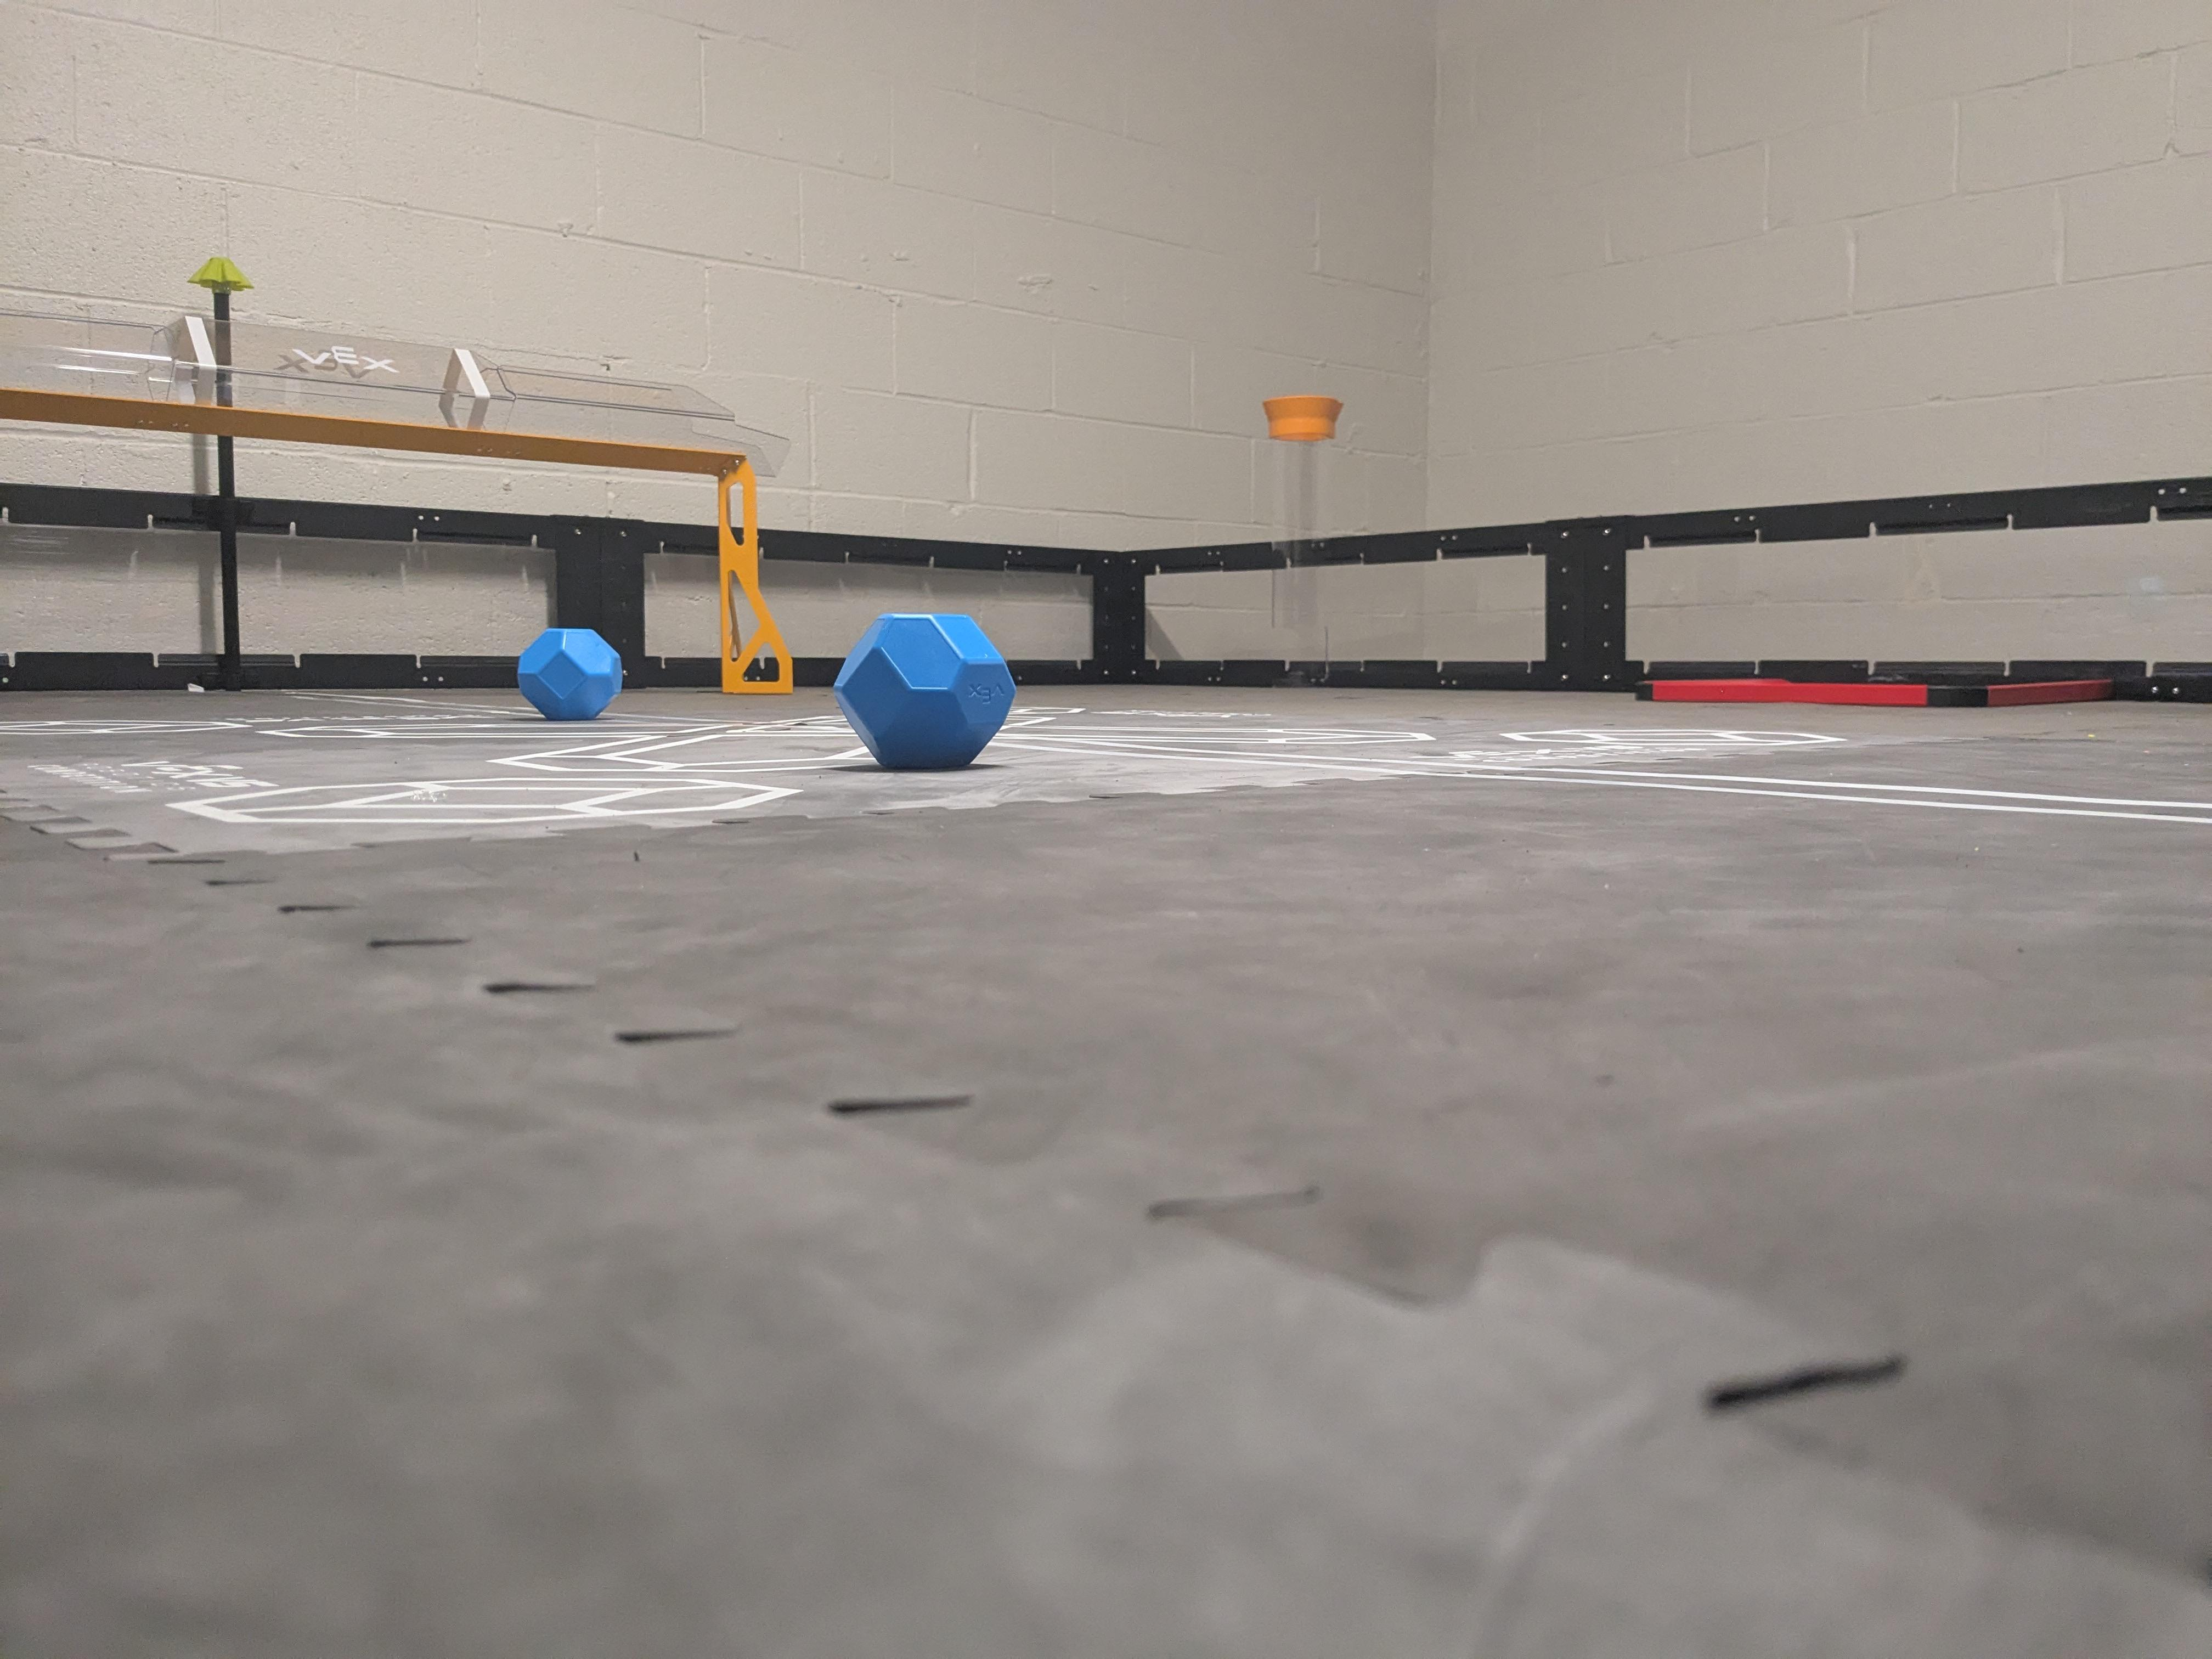Vex-Pieces-BLUE: (833, 612, 1015, 765), (519, 629, 622, 723)
